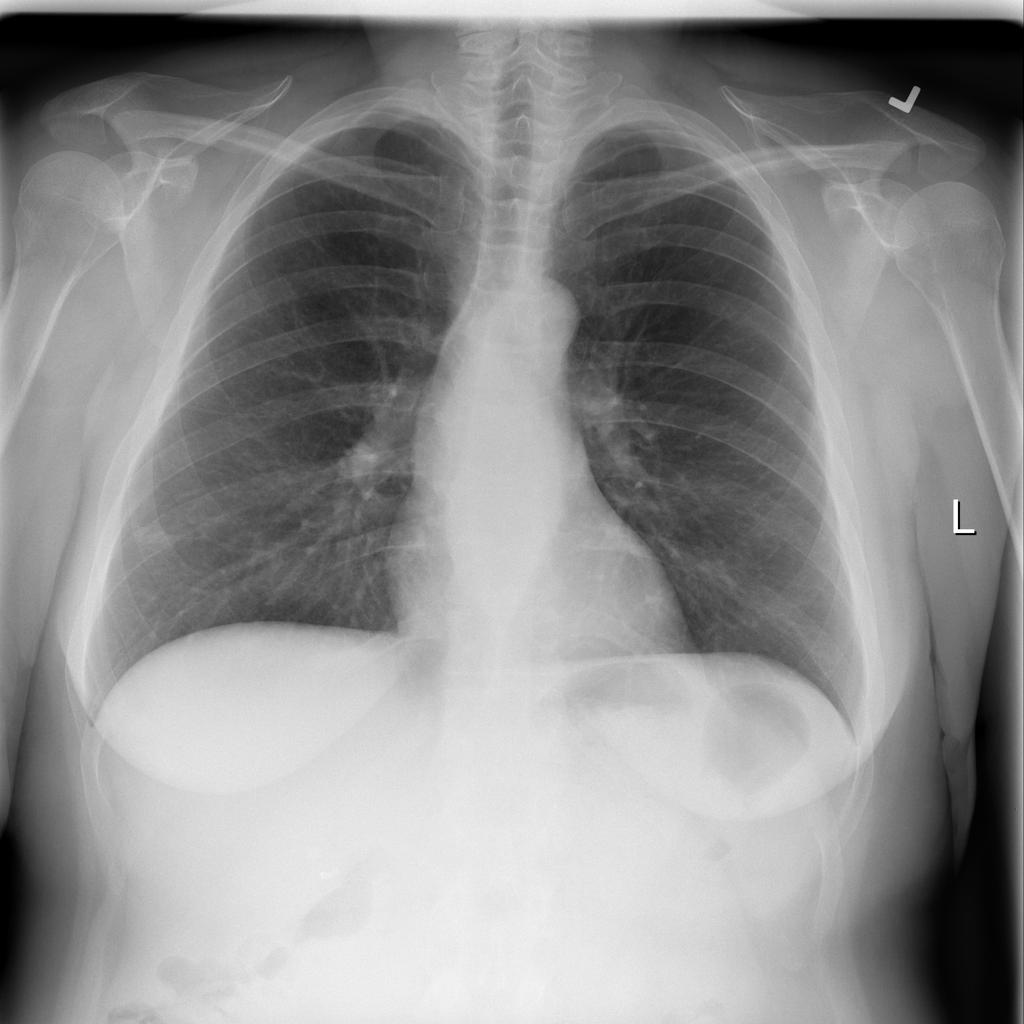nodule: (128, 512, 183, 558)
